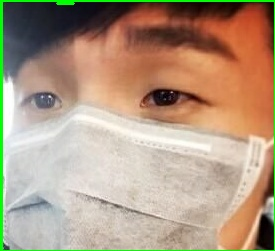with_mask: (2, 6, 275, 251)
